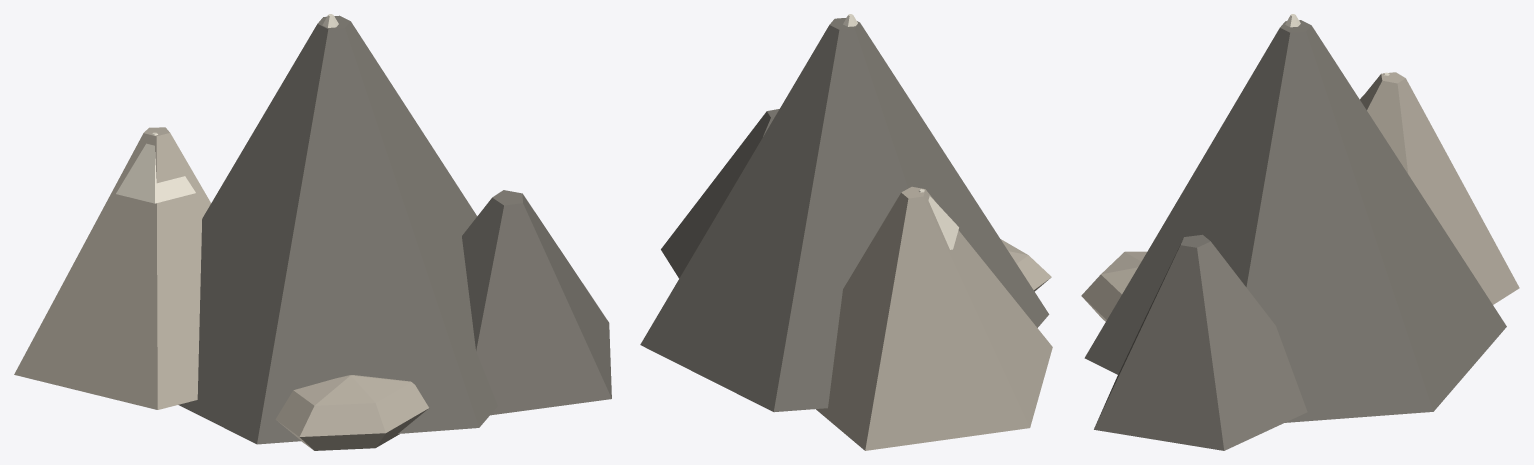
Rendered from mountain.fbx.
The picture shows the model from 3 angles, left to right: view 1: azimuth 30°, elevation 25°; view 2: azimuth 150°, elevation 25°; view 3: azimuth 270°, elevation 25°; orthographic projection. The views are drawn at different scales.
Visible parts, largest first — view 1: Prop; view 2: Prop; view 3: Prop.
Part boxes in pixels (x1=…): Prop: x1=14, y1=14, x2=611, y2=450; Prop: x1=640, y1=14, x2=1052, y2=450; Prop: x1=1081, y1=14, x2=1519, y2=450.
Size of the model in its own units: 4.08 by 3.27 by 2.77.
